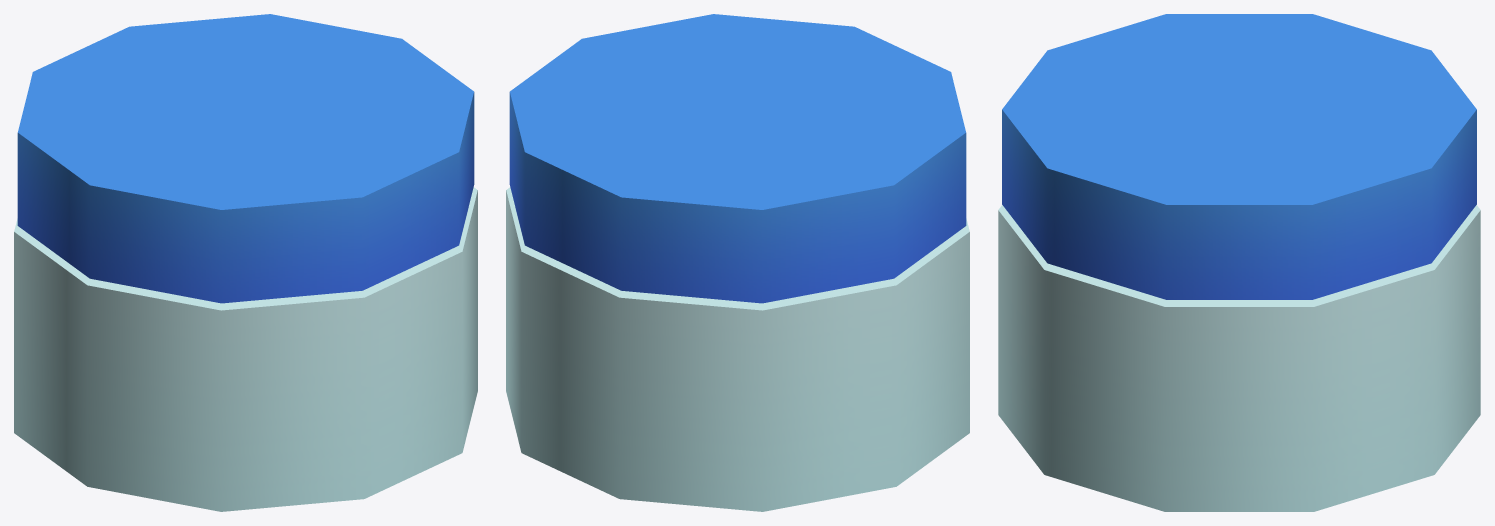
File: cream_jar_white.fbx
3 views of the same model, side by side, from view 1: azimuth 30°, elevation 25°; view 2: azimuth 150°, elevation 25°; view 3: azimuth 270°, elevation 25° (orthographic).
Parts seen in each view (by area): view 1: cream_jar_white; view 2: cream_jar_white; view 3: cream_jar_white.
Boxes of the visible parts, x1,y1,x2,y2 form: cream_jar_white: [14, 14, 477, 511]; cream_jar_white: [506, 14, 969, 511]; cream_jar_white: [998, 14, 1480, 511].
Size of the model in its own units: 127 by 93.48 by 134.
